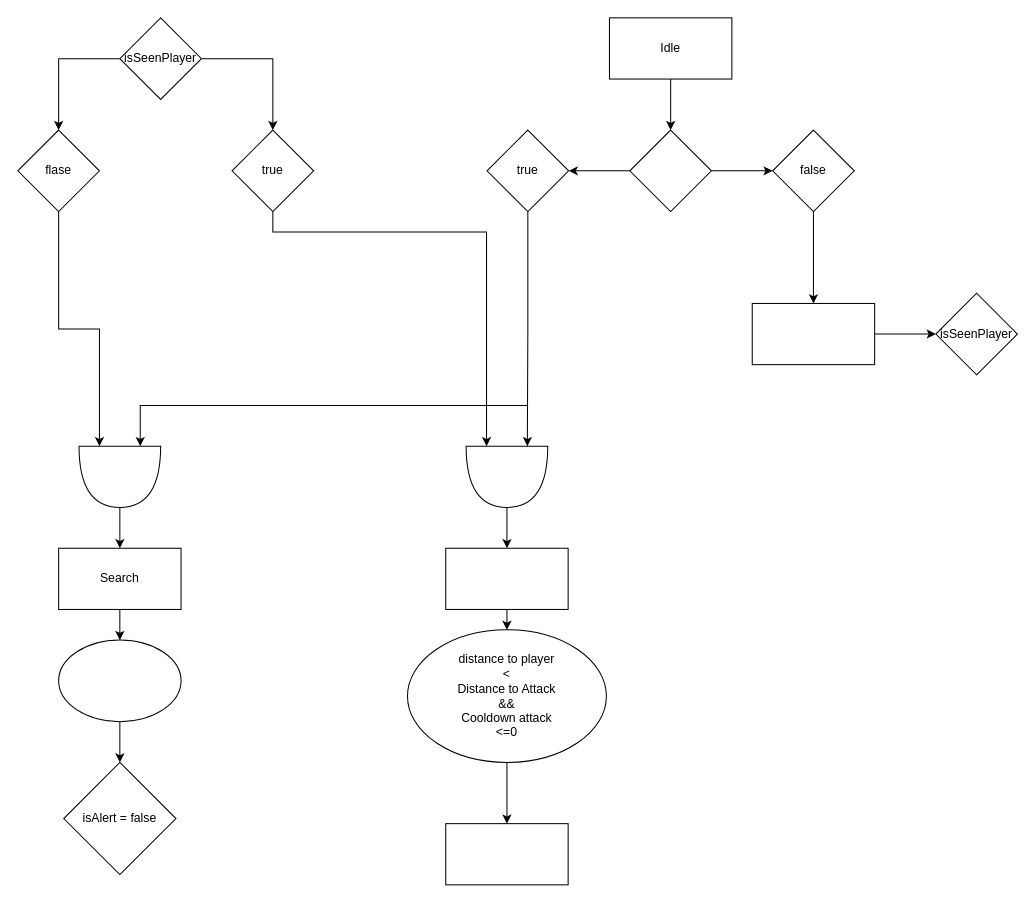
The diagram is 1035 pixels wide and 903 high, and some of its shapes have lost their labels. Here are the shapes that lost their labels. From the top down, the box of each, then its label:
(629, 129, 711, 212): isAlert
(751, 302, 875, 365): Patrol
(445, 547, 568, 609): Chase
(58, 639, 181, 722): timeForSearch <= 0
(445, 823, 568, 885): Attack
